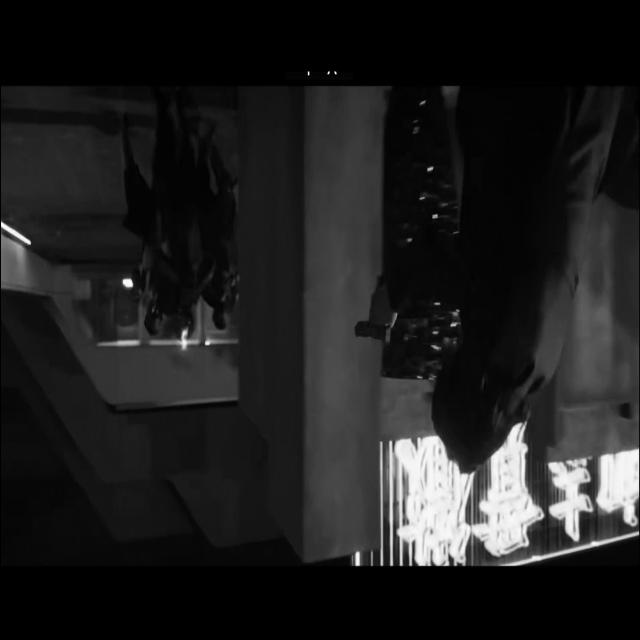weapons: (348, 260, 408, 356)
